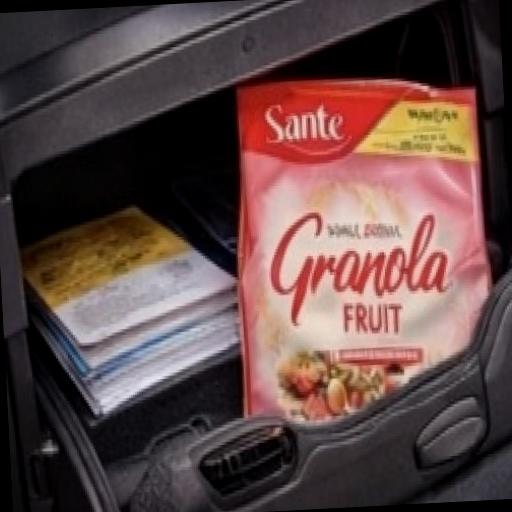granola: (188, 34, 510, 470)
